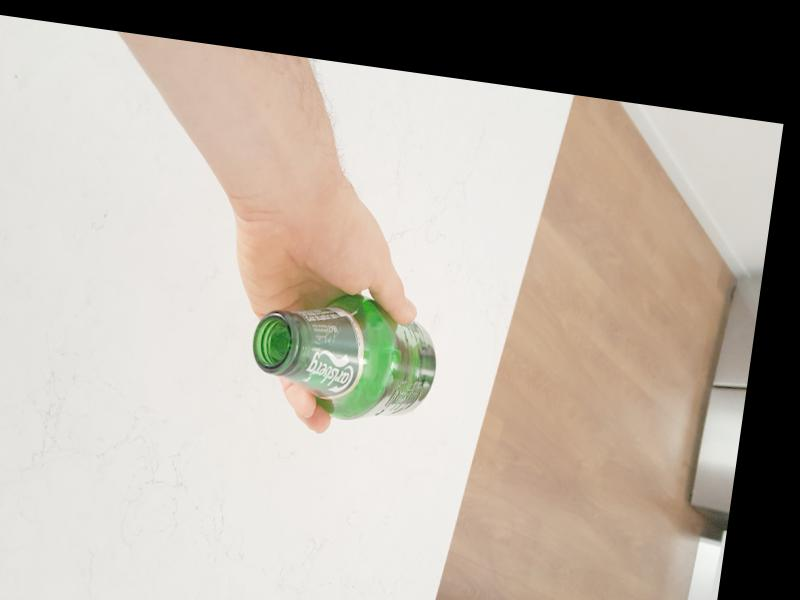Beer: (244, 283, 445, 429)
